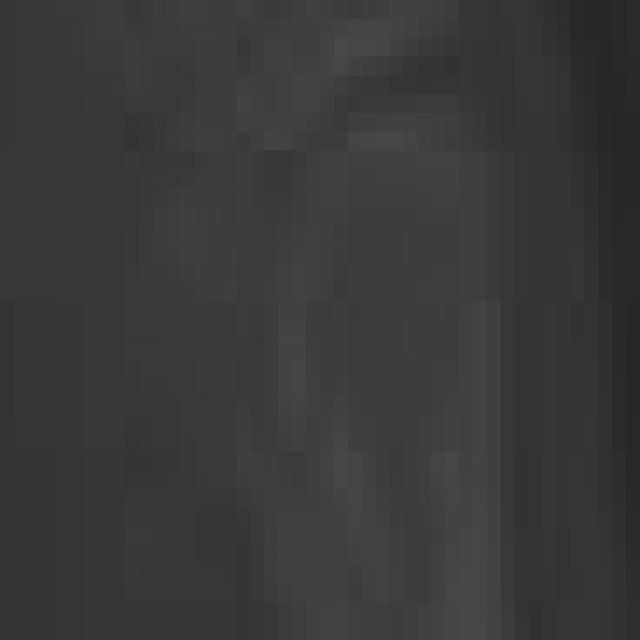fracture: (18, 1, 640, 640)
